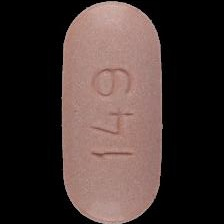16590-163: (0, 0, 224, 224)
